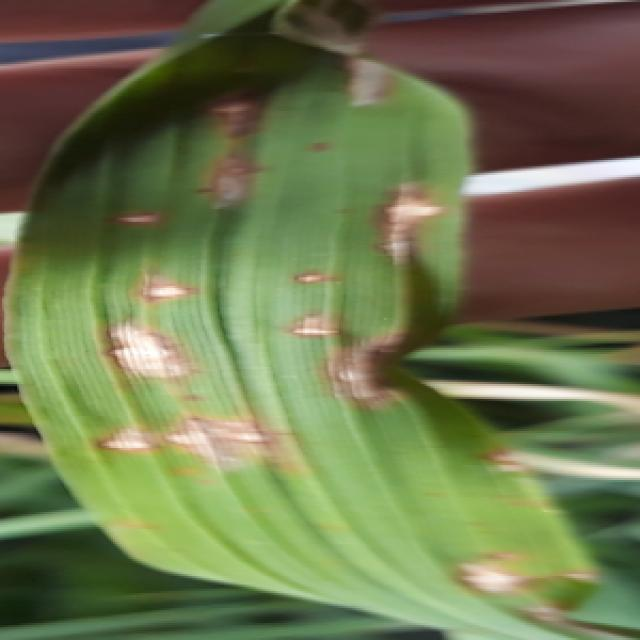Rice: (78, 307, 198, 404), (161, 408, 281, 488), (374, 166, 449, 270), (175, 138, 274, 214), (338, 41, 396, 118), (458, 558, 543, 610), (130, 269, 203, 306), (96, 420, 149, 464), (208, 88, 260, 126), (107, 198, 155, 235), (284, 309, 334, 342), (287, 254, 335, 288)
